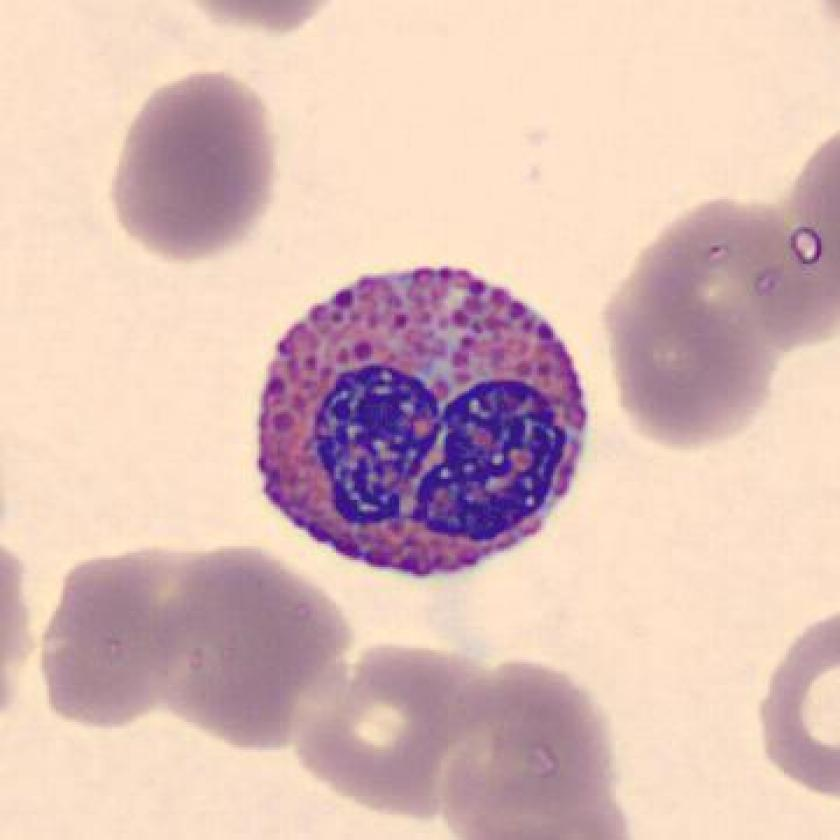eosinophil: (244, 260, 605, 580)
